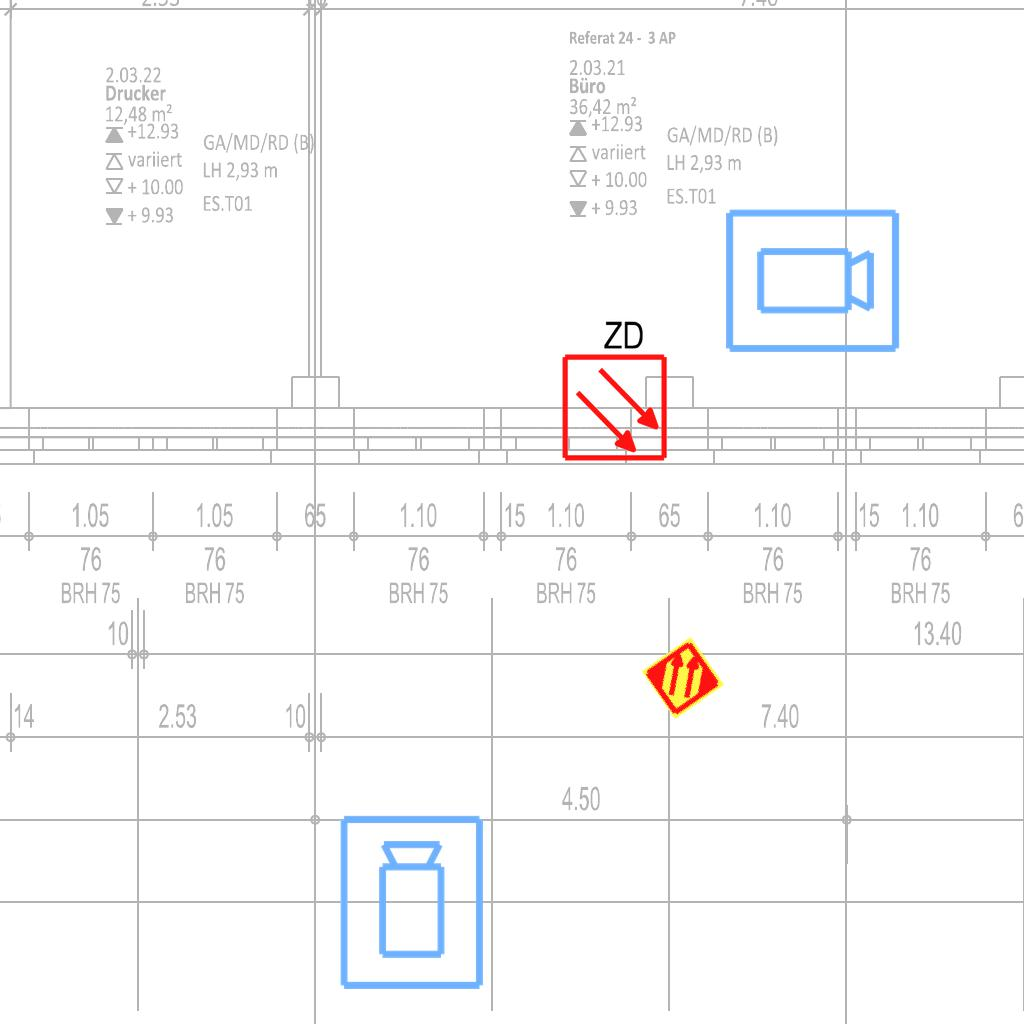ASR_Ansaugrauchmelder: (639, 634, 727, 722)
KFO_Kamera_mit_Festobjektiv: (721, 205, 903, 359), (336, 812, 490, 994)
ZD_Melder_in_Zwischendecke_mit_Revisionsoeffnung_mind_40_x_40_cm: (556, 314, 670, 463)
